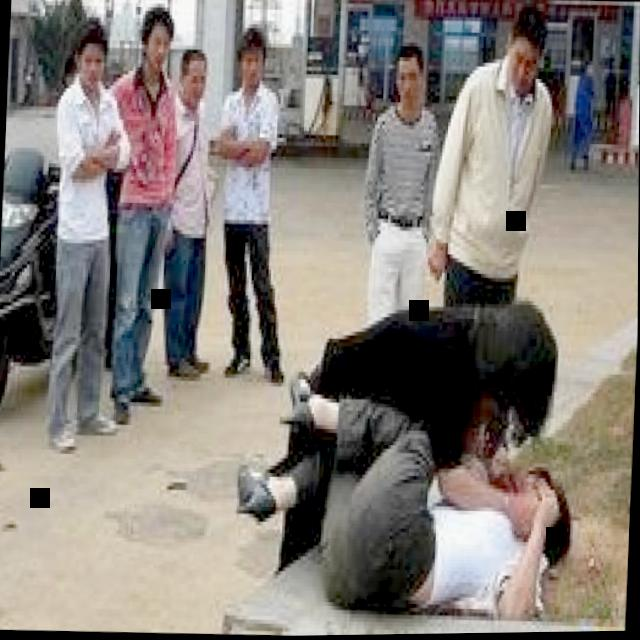Fall-Detected: (221, 306, 592, 627)
